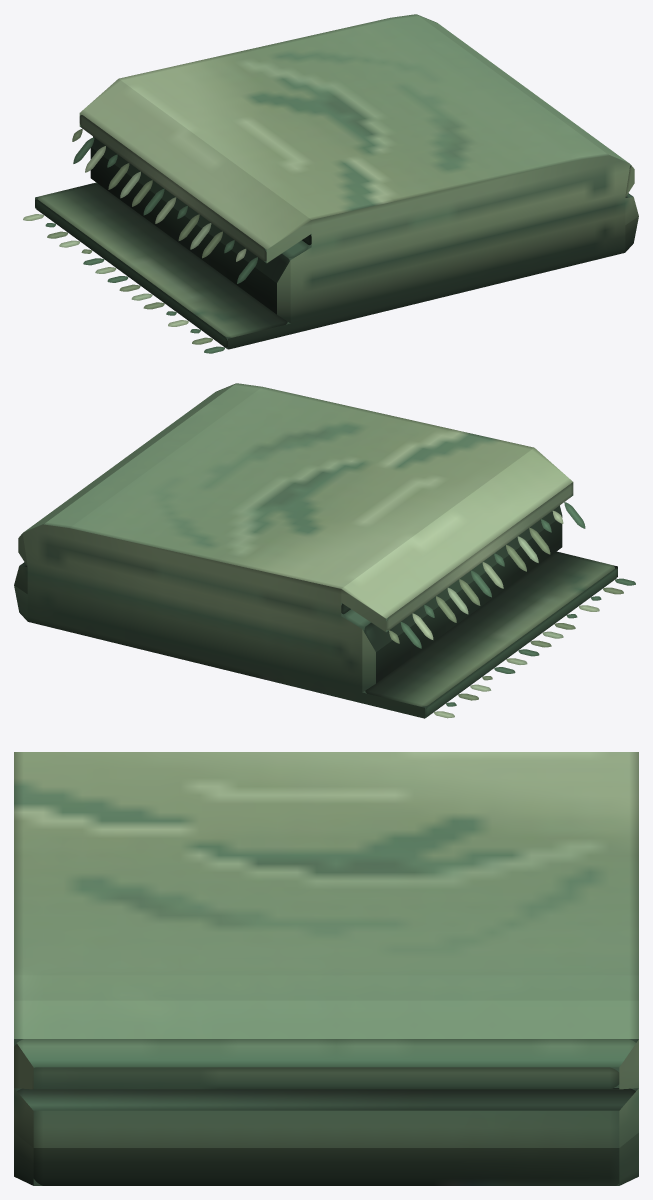
File: Blanket.fbx
3 views of the same model, one above another, from view 1: azimuth 30°, elevation 25°; view 2: azimuth 150°, elevation 25°; view 3: azimuth 270°, elevation 25° (orthographic). The views are drawn at different scales.
Visible parts, largest first — view 1: cuboid; view 2: cuboid; view 3: cuboid.
Part boxes in pixels (bbox=[...]): cuboid: bbox=[23, 14, 638, 353]; cuboid: bbox=[14, 383, 635, 718]; cuboid: bbox=[14, 752, 638, 1185].
Bounding box in the file's own units: 131 × 31.25 × 100.
1 material, 1 textured.
